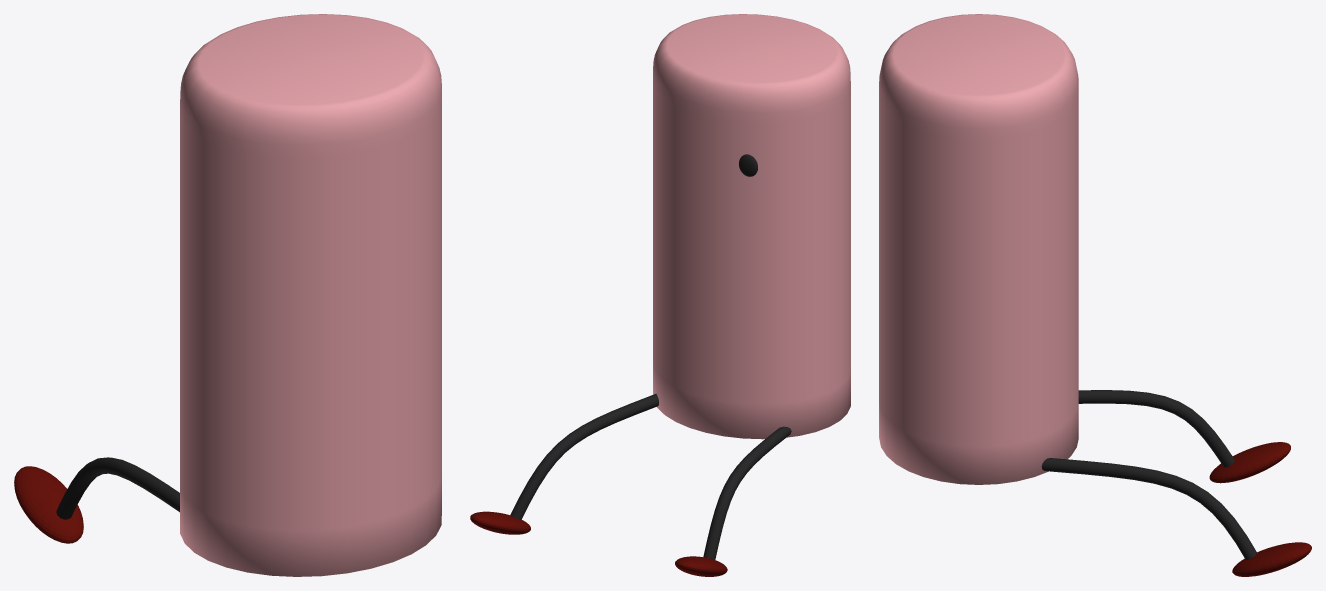
The model's file is avater.glb.
3 views of the same model, side by side, from view 1: azimuth 30°, elevation 25°; view 2: azimuth 150°, elevation 25°; view 3: azimuth 270°, elevation 25° (orthographic). The views are drawn at different scales.
Visible parts, largest first — view 1: Cylinder.006, Sphere.001, BezierCurve; view 2: Cylinder.006, BezierCurve.003, BezierCurve, Sphere.002, Sphere.001; view 3: Cylinder.006, BezierCurve.003, BezierCurve, Sphere.001, Sphere.002.
Boxes of the visible parts, x1,y1,x2,y2 form: Cylinder.006: (180,14,441,576); Sphere.001: (14,466,83,543); BezierCurve: (56,457,179,519); Cylinder.006: (653,14,850,439); BezierCurve.003: (510,394,658,519); BezierCurve: (703,426,791,559); Sphere.002: (470,511,530,534); Sphere.001: (675,556,727,576); Cylinder.006: (879,14,1078,484); BezierCurve.003: (1041,458,1257,559); BezierCurve: (1078,390,1234,467); Sphere.001: (1209,442,1290,483); Sphere.002: (1232,542,1311,576).
Bounding box in the file's own units: 1.27 × 2.26 × 1.91.
